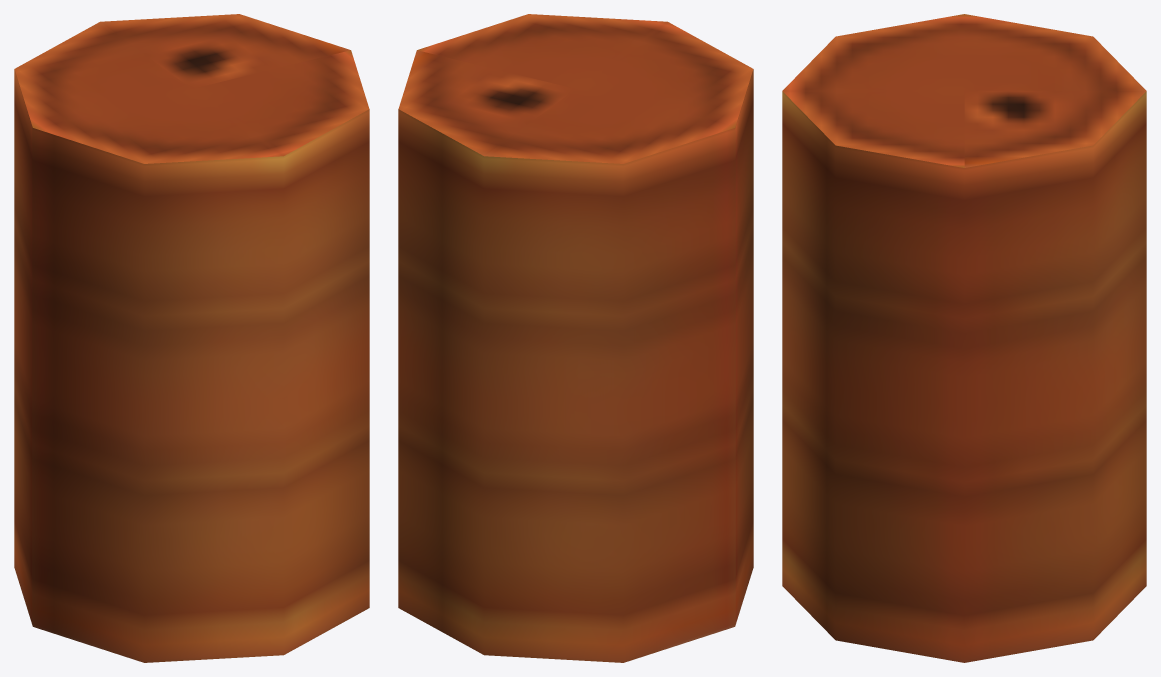
Rendered from Map02_youguan.fbx.
3 renders of one model, left to right at view 1: azimuth 30°, elevation 25°; view 2: azimuth 150°, elevation 25°; view 3: azimuth 270°, elevation 25°, orthographic.
Parts seen in each view (by area): view 1: Map03_youguan; view 2: Map03_youguan; view 3: Map03_youguan.
Boxes of the visible parts, bbox=[...] form: Map03_youguan: bbox=[14, 14, 369, 662]; Map03_youguan: bbox=[398, 14, 753, 662]; Map03_youguan: bbox=[782, 14, 1146, 662].
Bounding box in the file's own units: 6.7 × 10.04 × 6.7.
